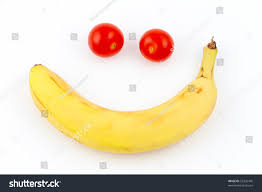banana: (28, 63, 218, 153)
tomato: (86, 22, 124, 59), (138, 27, 175, 63)
